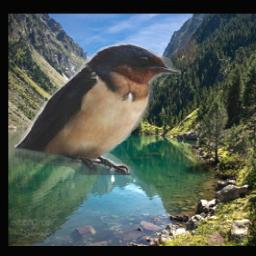Swallow: (15, 43, 181, 175)
